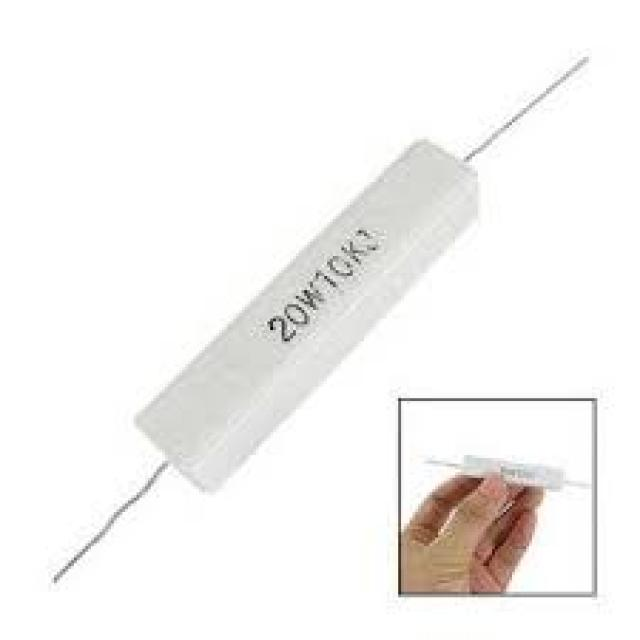Resistor: (148, 148, 464, 482)
